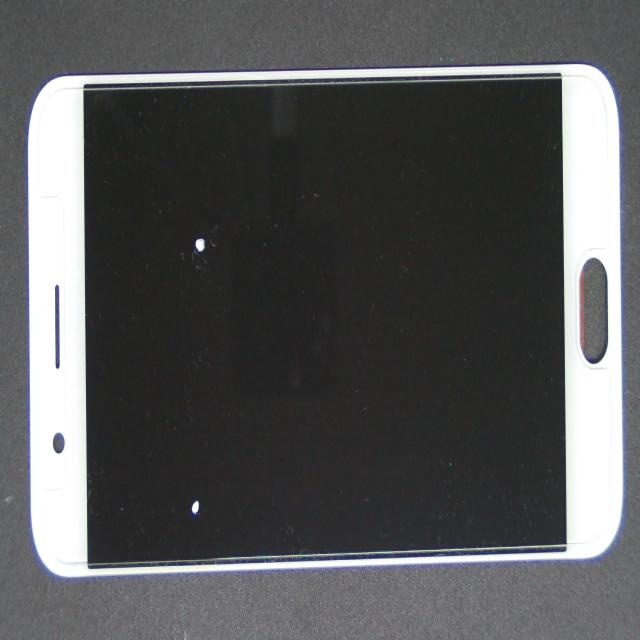stain: (132, 273, 326, 640), (106, 80, 292, 362)
